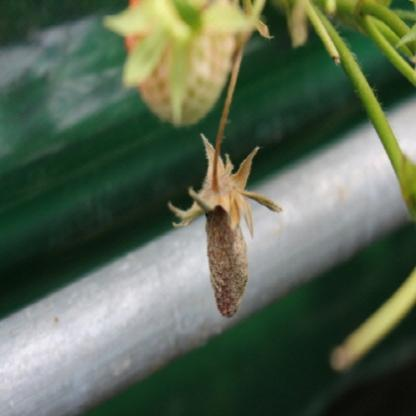Strawberry_Gray_Mold: (167, 134, 284, 318)
